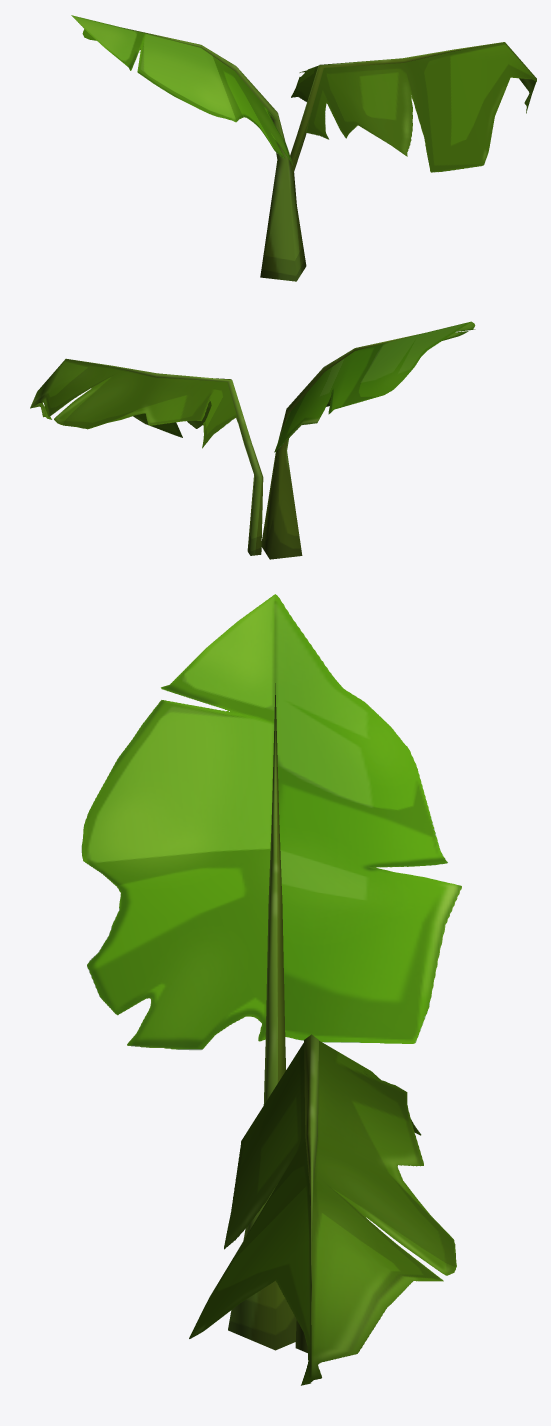
Rendered from F_W_O_plants_009.fbx.
3 renders of one model, top to bottom at view 1: azimuth 30°, elevation 25°; view 2: azimuth 150°, elevation 25°; view 3: azimuth 270°, elevation 25°, orthographic. The views are drawn at different scales.
Visible parts, largest first — view 1: F_W_O_plants_009; view 2: F_W_O_plants_009; view 3: F_W_O_plants_009.
Boxes of the visible parts, box(x1,y1,x2,y2) form: F_W_O_plants_009: box(71, 15, 536, 281); F_W_O_plants_009: box(30, 321, 475, 559); F_W_O_plants_009: box(81, 594, 461, 1385).
Size of the model in its own units: 9.87 by 5.95 by 4.06.
